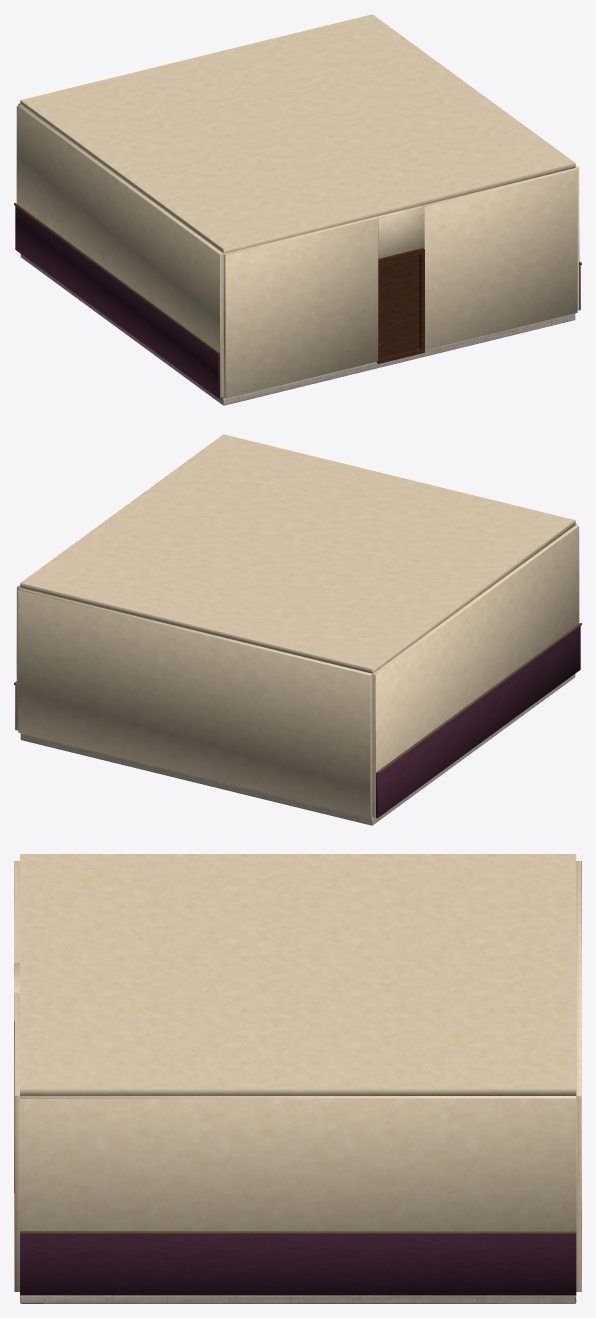
Rendered from explore3d__mirror_waiting.glb.
3 views of the same model, one above another, from view 1: azimuth 30°, elevation 25°; view 2: azimuth 150°, elevation 25°; view 3: azimuth 270°, elevation 25° (orthographic). The views are drawn at different scales.
Parts seen in each view (by area): view 1: Rebuilt_mirror_waiting; view 2: Rebuilt_mirror_waiting; view 3: Rebuilt_mirror_waiting.
Boxes of the visible parts, bbox=[...] form: Rebuilt_mirror_waiting: bbox=[14, 14, 581, 405]; Rebuilt_mirror_waiting: bbox=[14, 434, 581, 825]; Rebuilt_mirror_waiting: bbox=[14, 854, 581, 1303].
Bounding box in the file's own units: 9.32 × 3.84 × 9.19.
12 materials, 11 textured.
